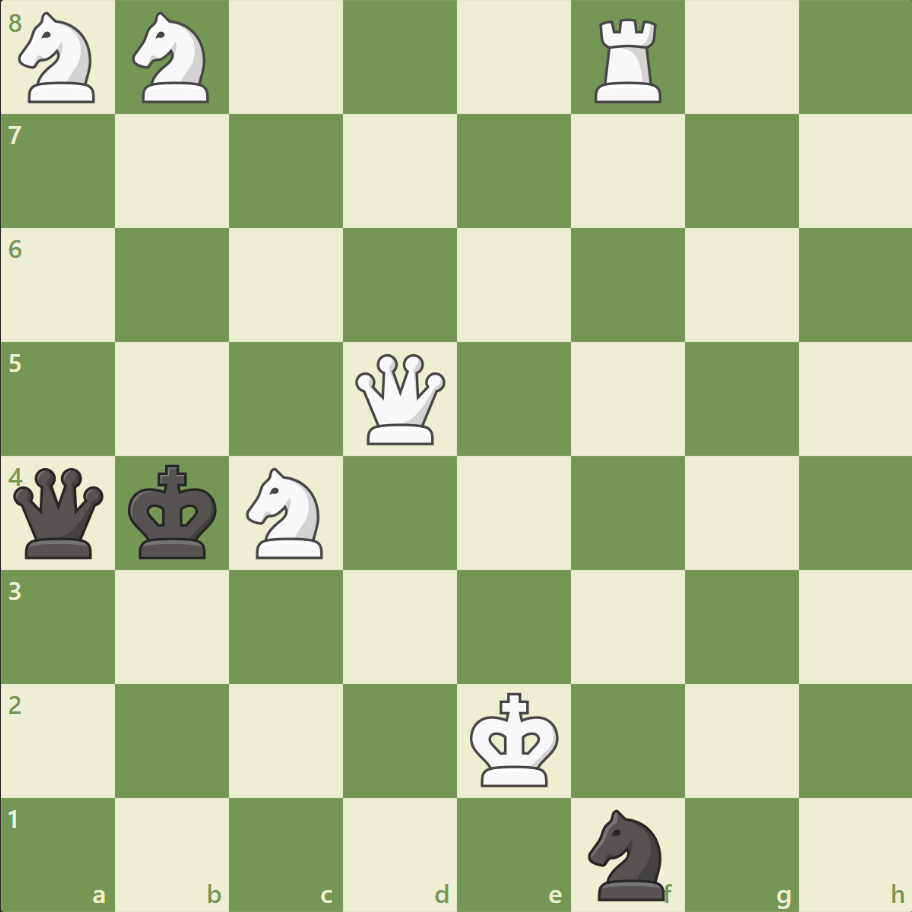K: (465, 685, 565, 793)
N: (124, 7, 222, 110), (11, 7, 108, 110), (238, 461, 335, 564)
Q: (351, 349, 450, 449)
R: (587, 12, 670, 109)
k: (124, 458, 224, 566)
n: (579, 802, 676, 904)
q: (10, 463, 109, 562)
